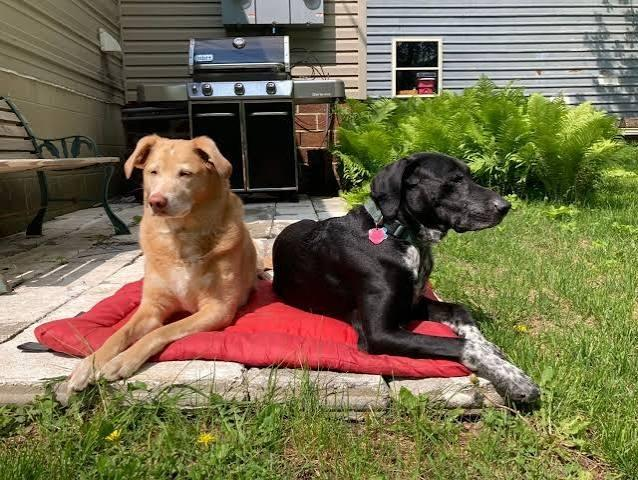adult_dog: (271, 151, 542, 406), (66, 134, 260, 393)
